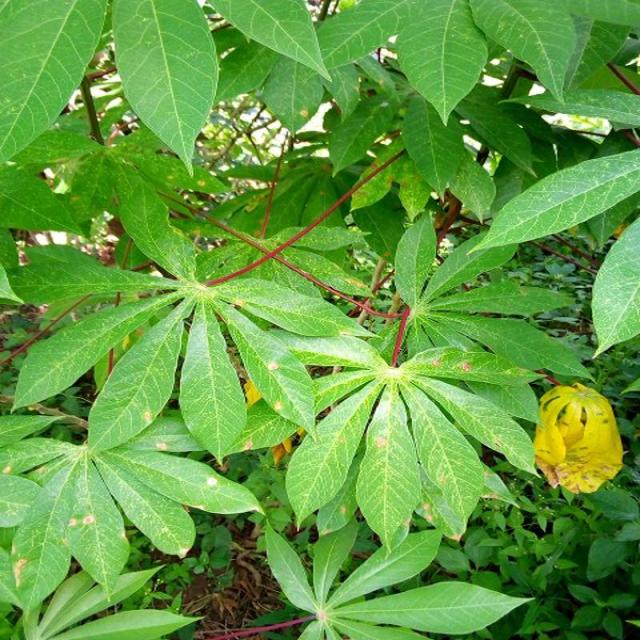cassava leaf: (1, 1, 638, 636), (110, 0, 220, 177)
